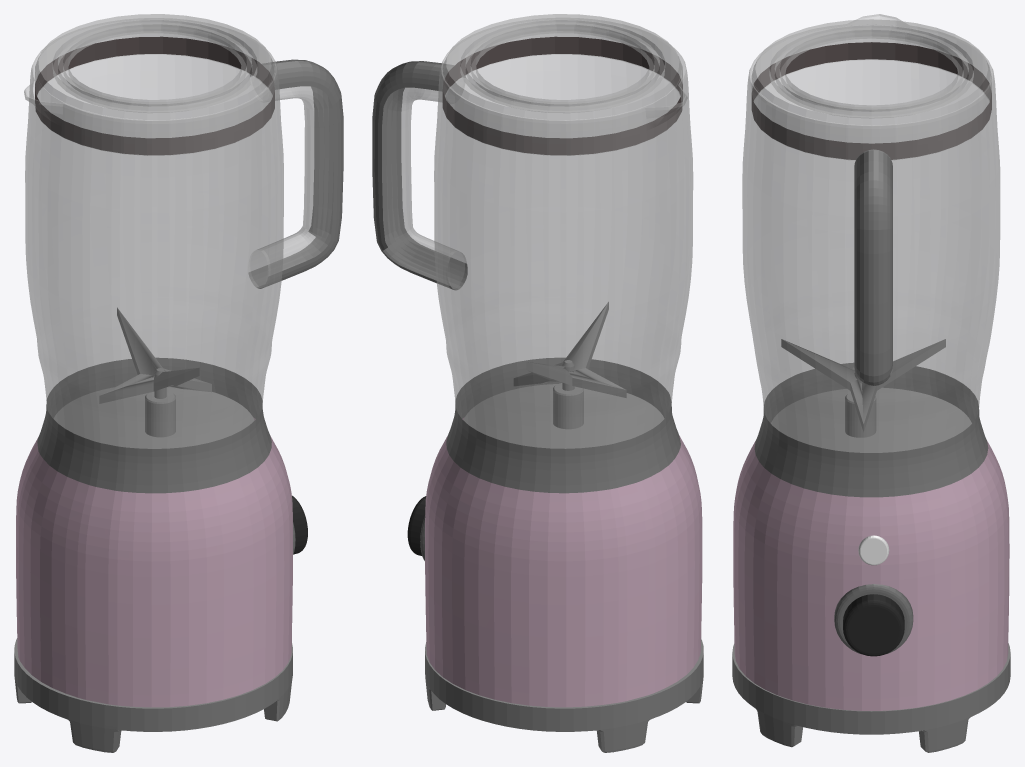
The model's file is CompoundMaker.fbx.
3 views of the same model, side by side, from view 1: azimuth 30°, elevation 25°; view 2: azimuth 150°, elevation 25°; view 3: azimuth 270°, elevation 25° (orthographic).
Visible parts, largest first — view 1: Star001; view 2: Star001; view 3: Star001.
Part boxes in pixels (box(x1,y1,x2,y2)): Star001: box(14, 14, 343, 752); Star001: box(372, 14, 703, 752); Star001: box(732, 14, 1010, 752).
Bounding box in the file's own units: 13273 × 25775 × 10253.
